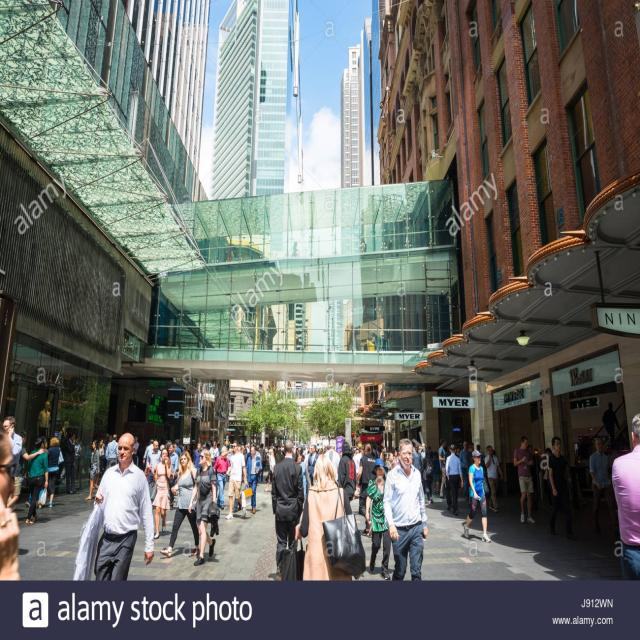body: (293, 450, 470, 640), (294, 452, 368, 580), (93, 431, 155, 581), (382, 438, 429, 582), (270, 438, 306, 583), (610, 412, 640, 581), (158, 448, 200, 558), (188, 446, 220, 566), (0, 431, 24, 581), (365, 458, 392, 580), (6, 429, 45, 508), (462, 449, 492, 542), (547, 434, 572, 538), (589, 438, 615, 532), (512, 435, 537, 524), (24, 436, 49, 524), (149, 446, 172, 540), (355, 442, 377, 538), (26, 436, 50, 510), (225, 440, 247, 520), (444, 443, 465, 516), (44, 436, 64, 508), (212, 444, 232, 510), (2, 415, 23, 477), (484, 444, 503, 512), (541, 446, 558, 517), (337, 441, 356, 504), (246, 444, 263, 514), (170, 543, 220, 564), (84, 439, 100, 501), (458, 439, 473, 504), (600, 400, 620, 446), (167, 442, 180, 511), (324, 438, 341, 487), (64, 431, 77, 495), (420, 449, 434, 505), (526, 444, 538, 505), (146, 440, 162, 485), (438, 437, 448, 499), (306, 444, 320, 486), (104, 434, 120, 469), (264, 448, 276, 492), (208, 439, 219, 483), (193, 442, 203, 488), (431, 450, 441, 494), (368, 561, 394, 577), (232, 507, 261, 521), (274, 447, 284, 487), (381, 445, 390, 488), (74, 437, 82, 481), (411, 443, 422, 472), (97, 438, 106, 473), (142, 438, 154, 464), (131, 435, 140, 467), (258, 442, 265, 482), (458, 530, 484, 540), (172, 438, 182, 460), (475, 443, 486, 461), (294, 439, 310, 451), (385, 452, 394, 472), (351, 441, 364, 454), (238, 441, 250, 455), (268, 439, 284, 449), (392, 450, 400, 468), (263, 442, 268, 470), (185, 443, 193, 457), (468, 441, 475, 453), (428, 445, 434, 459), (379, 448, 385, 462), (190, 434, 202, 441), (104, 434, 112, 444), (252, 440, 260, 449), (158, 438, 172, 443), (416, 443, 422, 453), (204, 441, 210, 451), (321, 441, 326, 452), (421, 442, 426, 452), (373, 441, 379, 449), (456, 445, 460, 456), (393, 445, 399, 450)
